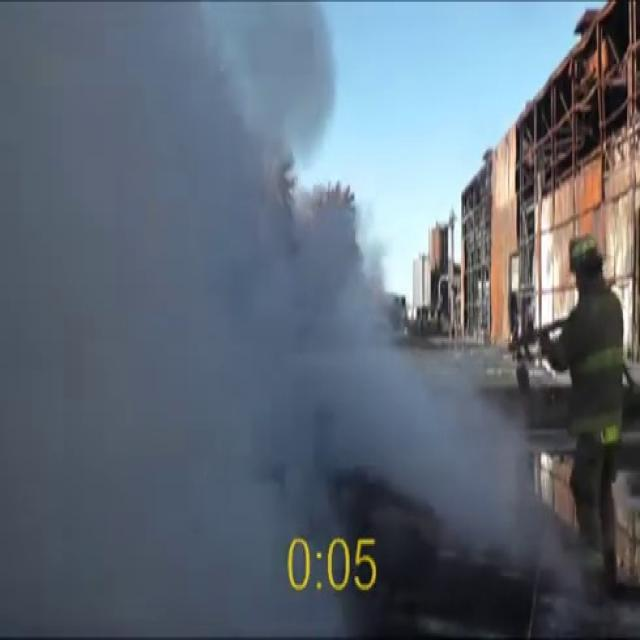Smoke: (1, 0, 550, 622)
